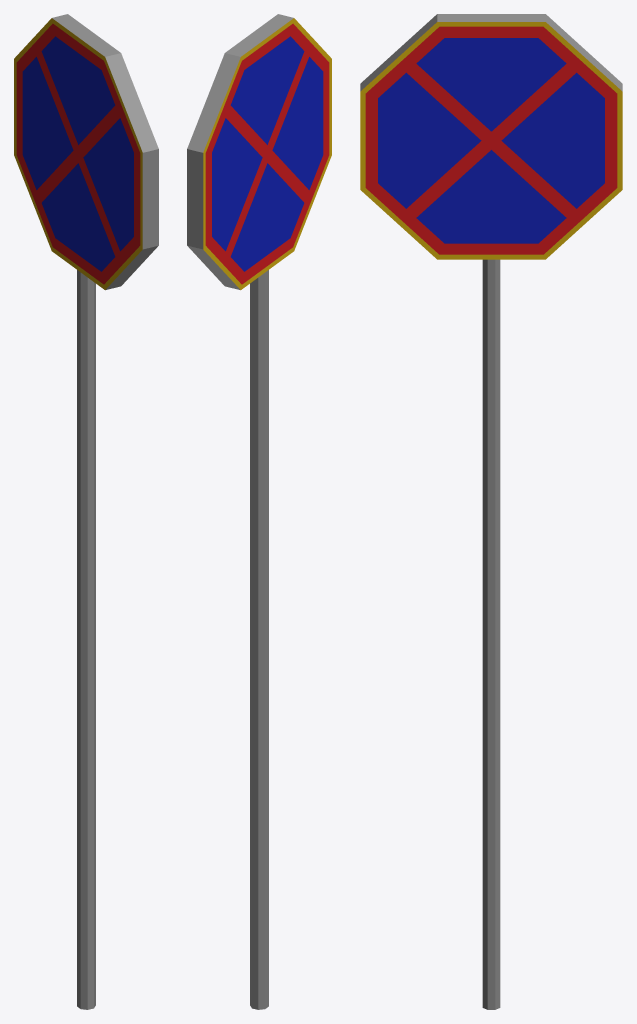
File: Signage 6.fbx
The picture shows the model from 3 angles, left to right: view 1: azimuth 30°, elevation 25°; view 2: azimuth 150°, elevation 25°; view 3: azimuth 270°, elevation 25°; orthographic projection.
Visible parts, largest first — view 1: Signage 6; view 2: Signage 6; view 3: Signage 6.
Part boxes in pixels (x1,y1,x2,y2): Signage 6: (14, 14, 158, 1009); Signage 6: (187, 14, 331, 1009); Signage 6: (360, 14, 622, 1009).
Size of the model in its own units: 0.0455 by 0.6307 by 2.62.
